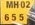character: (5, 1, 13, 8), (4, 12, 9, 21), (18, 12, 23, 21), (11, 13, 16, 21), (13, 1, 18, 8), (20, 1, 25, 8), (25, 1, 30, 8)
